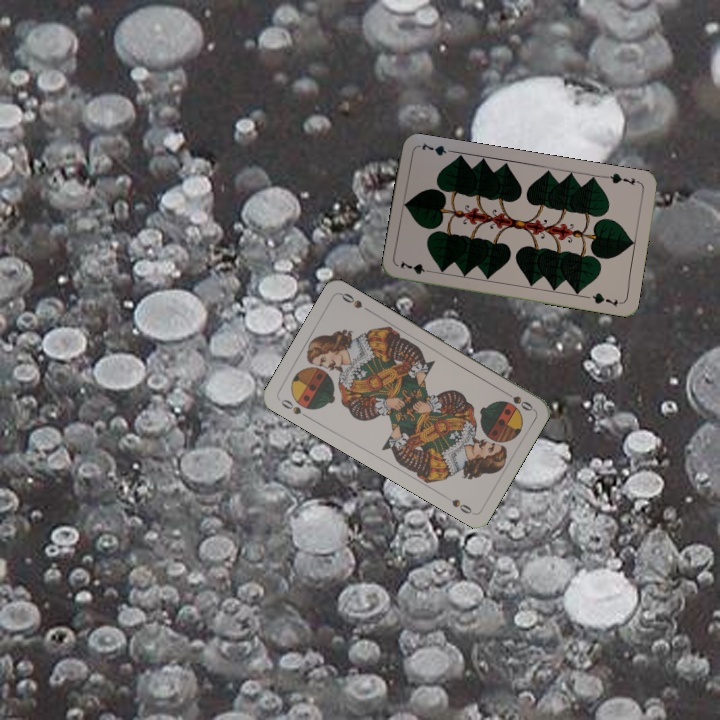G7: (396, 257, 437, 277), (602, 169, 642, 188)
SO: (499, 386, 536, 414), (277, 395, 312, 421)
